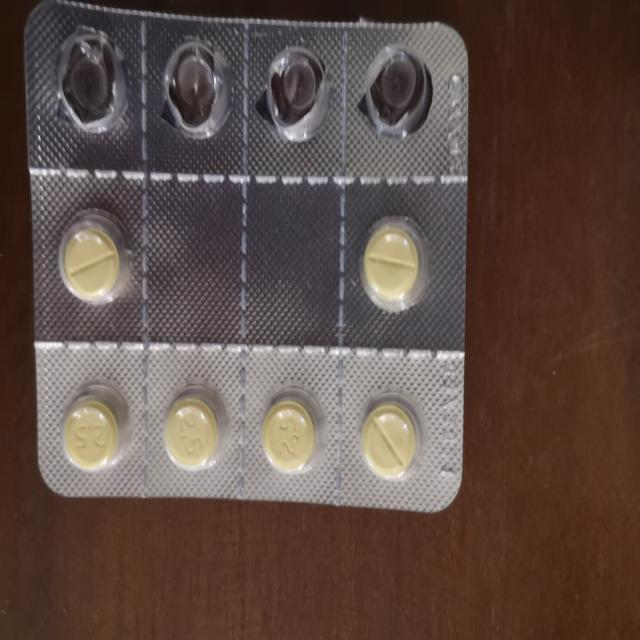Empty: (153, 34, 237, 142), (354, 39, 430, 144), (50, 26, 124, 133), (260, 39, 332, 146)
Pill: (350, 215, 444, 329), (351, 396, 434, 492), (49, 213, 128, 312), (255, 391, 329, 482), (156, 389, 226, 480), (55, 390, 126, 478)
